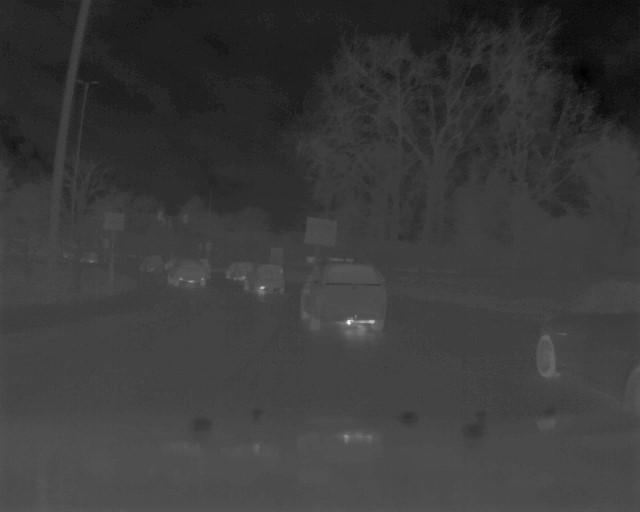car: (532, 269, 640, 425), (298, 261, 392, 332), (242, 262, 287, 295), (165, 257, 207, 288), (224, 261, 252, 280)
